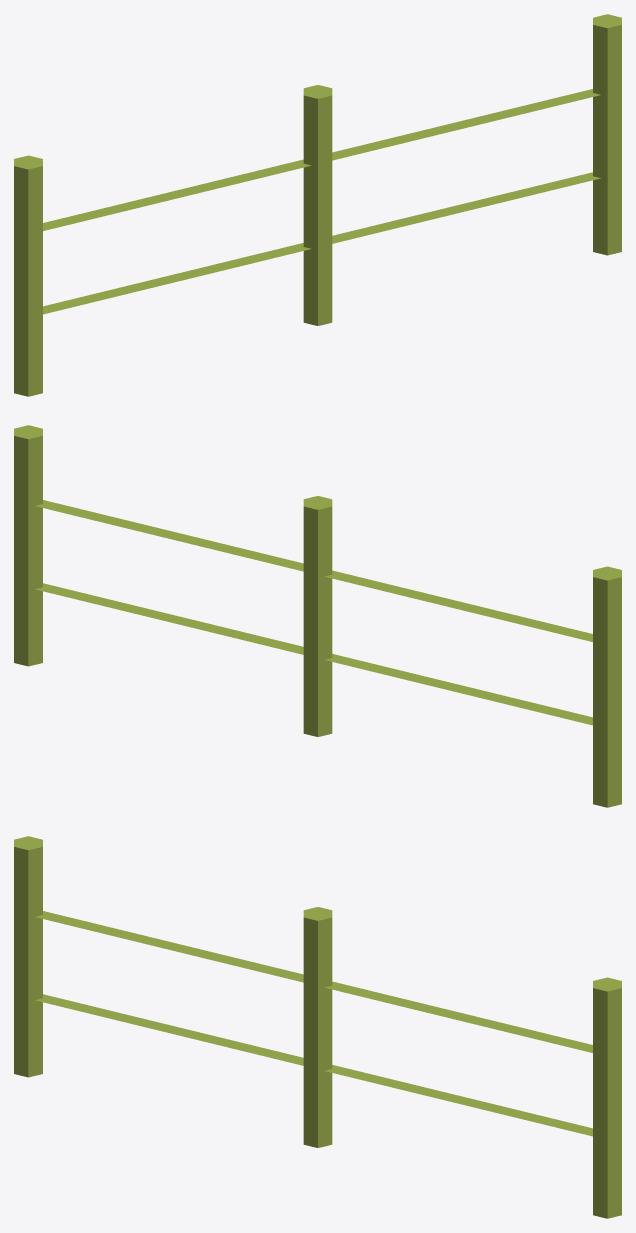
Rendered from fencing_bambu.obj.
3 views of the same model, one above another, from view 1: azimuth 30°, elevation 25°; view 2: azimuth 150°, elevation 25°; view 3: azimuth 330°, elevation 25° (orthographic).
Parts seen in each view (by area): view 1: fencing_bambu; view 2: fencing_bambu; view 3: fencing_bambu.
Boxes of the visible parts, bbox=[...] form: fencing_bambu: bbox=[14, 14, 621, 396]; fencing_bambu: bbox=[14, 425, 621, 807]; fencing_bambu: bbox=[14, 836, 621, 1218].
Bounding box in the file's own units: 4.2 × 1.5 × 0.1732.
